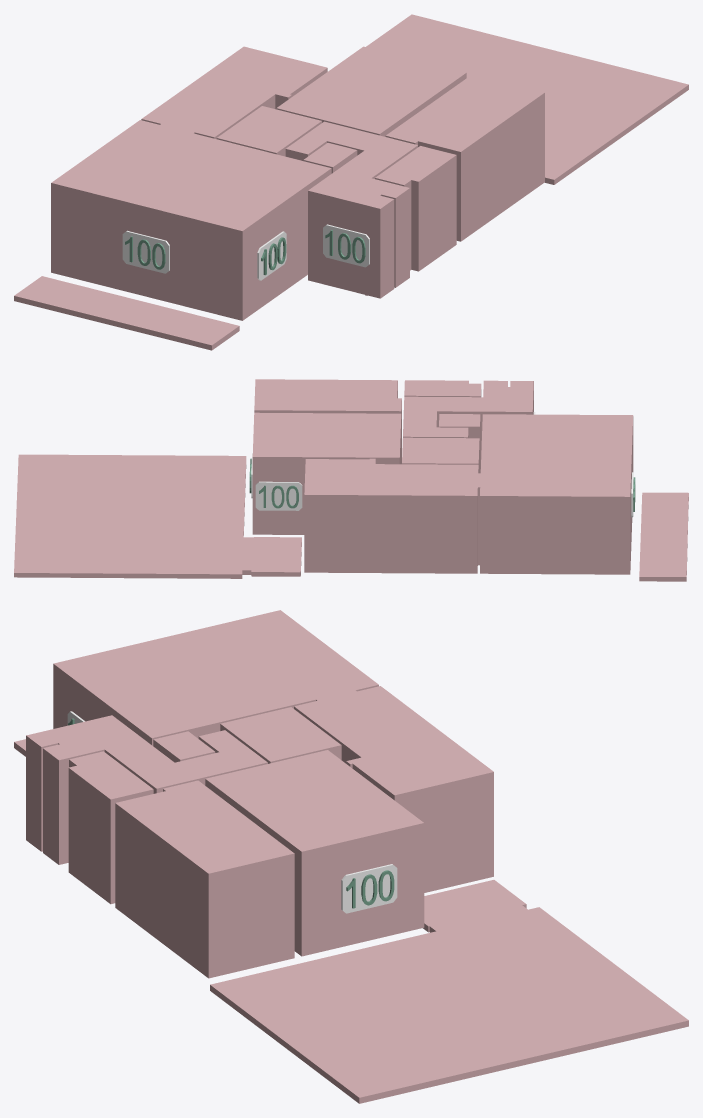
3 views of the same model, one above another, from view 1: azimuth 30°, elevation 25°; view 2: azimuth 150°, elevation 25°; view 3: azimuth 270°, elevation 25° (orthographic). The views are drawn at different scales.
Parts seen in each view (by area): view 1: g_1, g_8, g_7, g_4, g_6, g_0, g_9, g_5, g_2, g_13, g_25, g_3 (+1 smaller); view 2: g_8, g_1, g_0, g_6, g_7, g_4, g_9, g_2, g_5, g_21, g_3; view 3: g_8, g_7, g_1, g_6, g_0, g_4, g_5, g_2, g_29, g_3.
Boxes of the visible parts, <box> form: g_1: <box>51,120,331,320</box>; g_8: <box>366,14,688,184</box>; g_7: <box>385,74,544,241</box>; g_4: <box>285,121,417,298</box>; g_6: <box>276,46,466,136</box>; g_0: <box>141,46,327,138</box>; g_9: <box>14,276,239,350</box>; g_5: <box>375,146,456,271</box>; g_2: <box>216,106,321,156</box>; g_13: <box>122,230,169,273</box>; g_25: <box>323,224,369,267</box>; g_3: <box>303,143,357,173</box>; g_8: <box>14,454,301,578</box>; g_1: <box>479,414,633,574</box>; g_0: <box>304,458,479,573</box>; g_6: <box>252,412,401,534</box>; g_7: <box>254,379,401,464</box>; g_4: <box>403,380,533,472</box>; g_9: <box>639,492,688,581</box>; g_2: <box>402,437,479,473</box>; g_5: <box>404,380,481,397</box>; g_21: <box>255,481,302,510</box>; g_3: <box>439,414,480,472</box>; g_8: <box>210,880,688,1103</box>; g_7: <box>115,780,294,978</box>; g_1: <box>53,610,378,745</box>; g_6: <box>205,750,424,956</box>; g_0: <box>294,686,493,892</box>; g_4: <box>26,715,267,864</box>; g_5: <box>68,751,153,904</box>; g_2: <box>220,707,341,763</box>; g_29: <box>341,864,397,913</box>; g_3: <box>153,731,215,762</box>.
Size of the model in its own units: 21.69 by 2.74 by 15.04.
